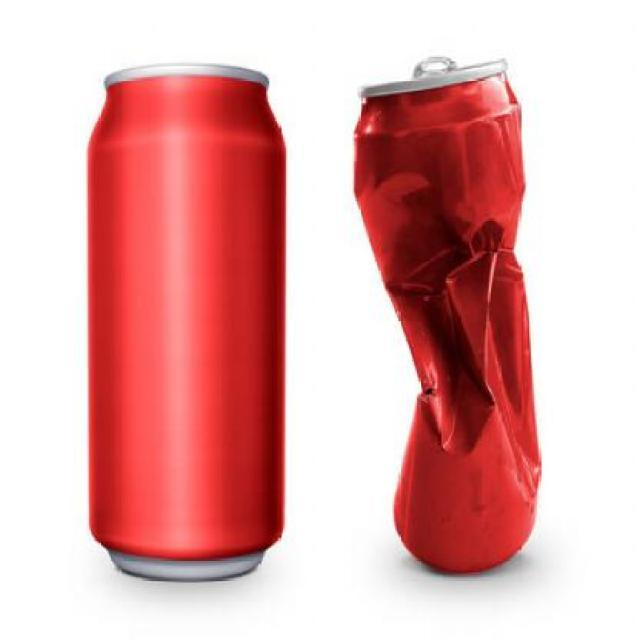can: (74, 54, 318, 600), (349, 29, 566, 589)
